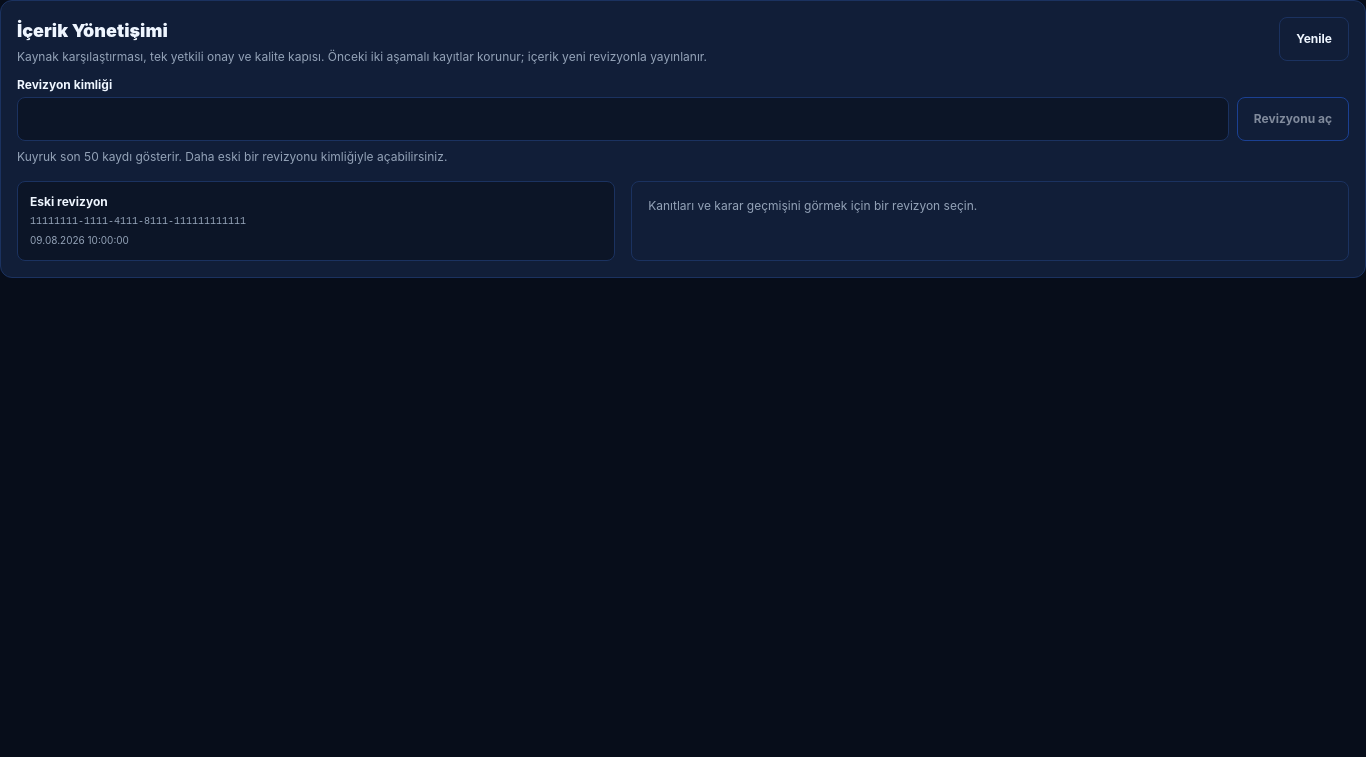
ContentGovernancePanel › rejects malformed lookup IDs locally and shows a failed read without a stale revision
Click the text "Eski revizyon": (69, 202) [30,194,108,209]
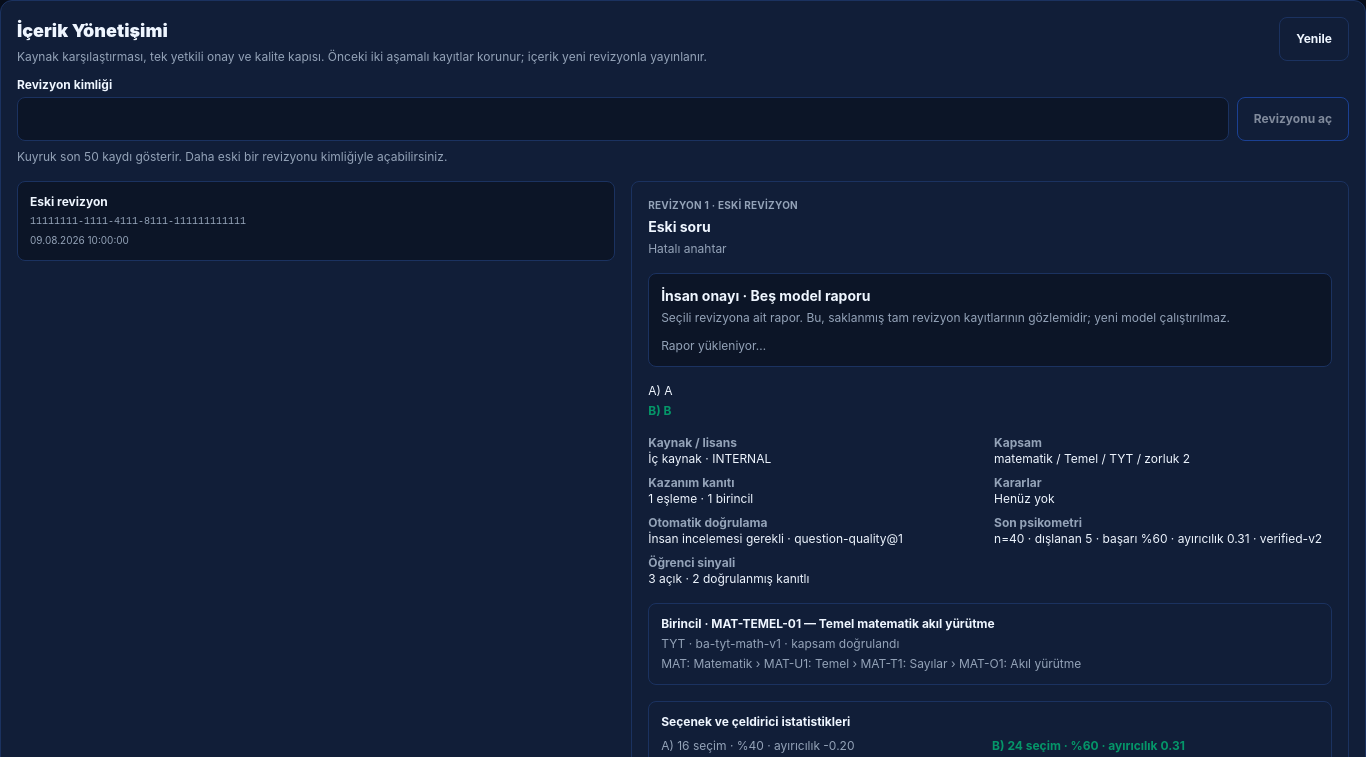
Expected: the heading "Eski soru" is shown, [648,218,711,235]
In the field labelled "Revizyon kimliği": (623, 119) [17,97,1229,141], type "../publish"
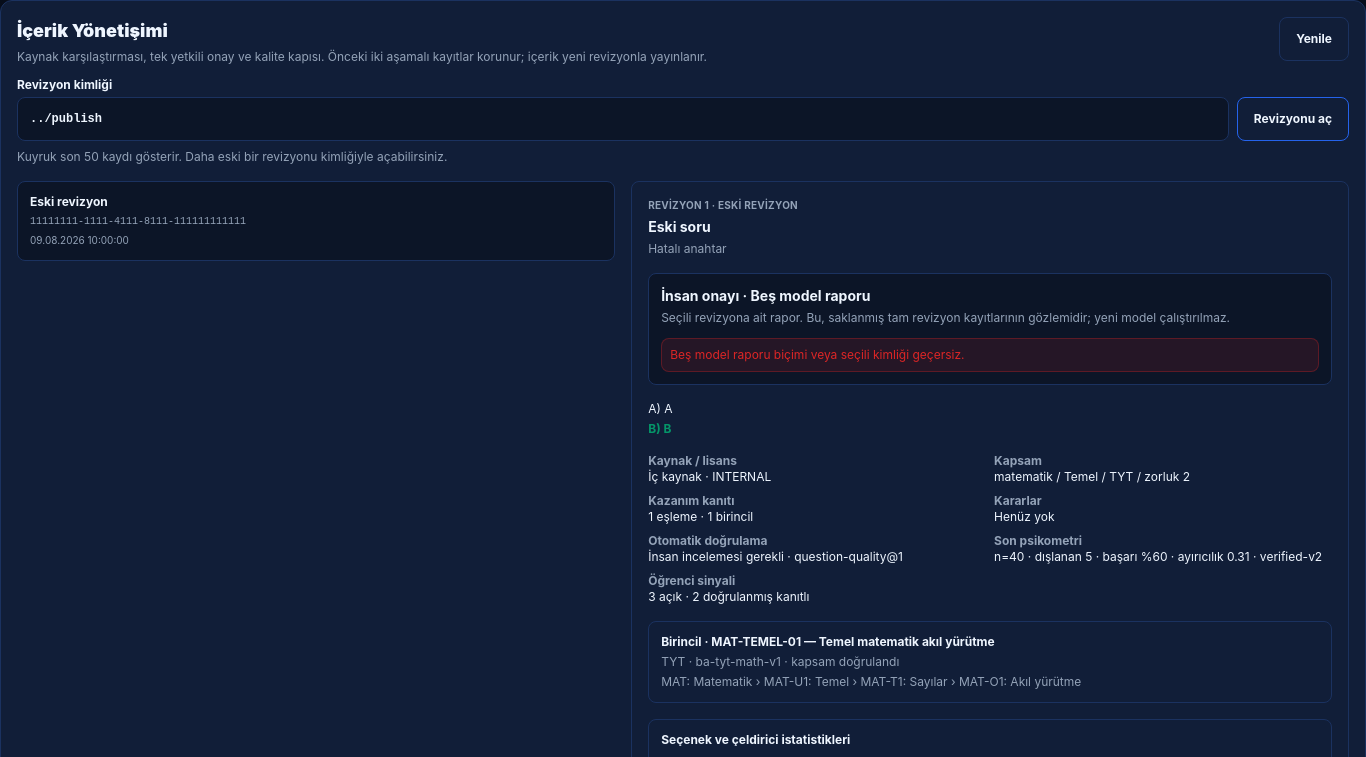
Click the button "Revizyonu aç": (1293, 119) [1237,97,1349,141]
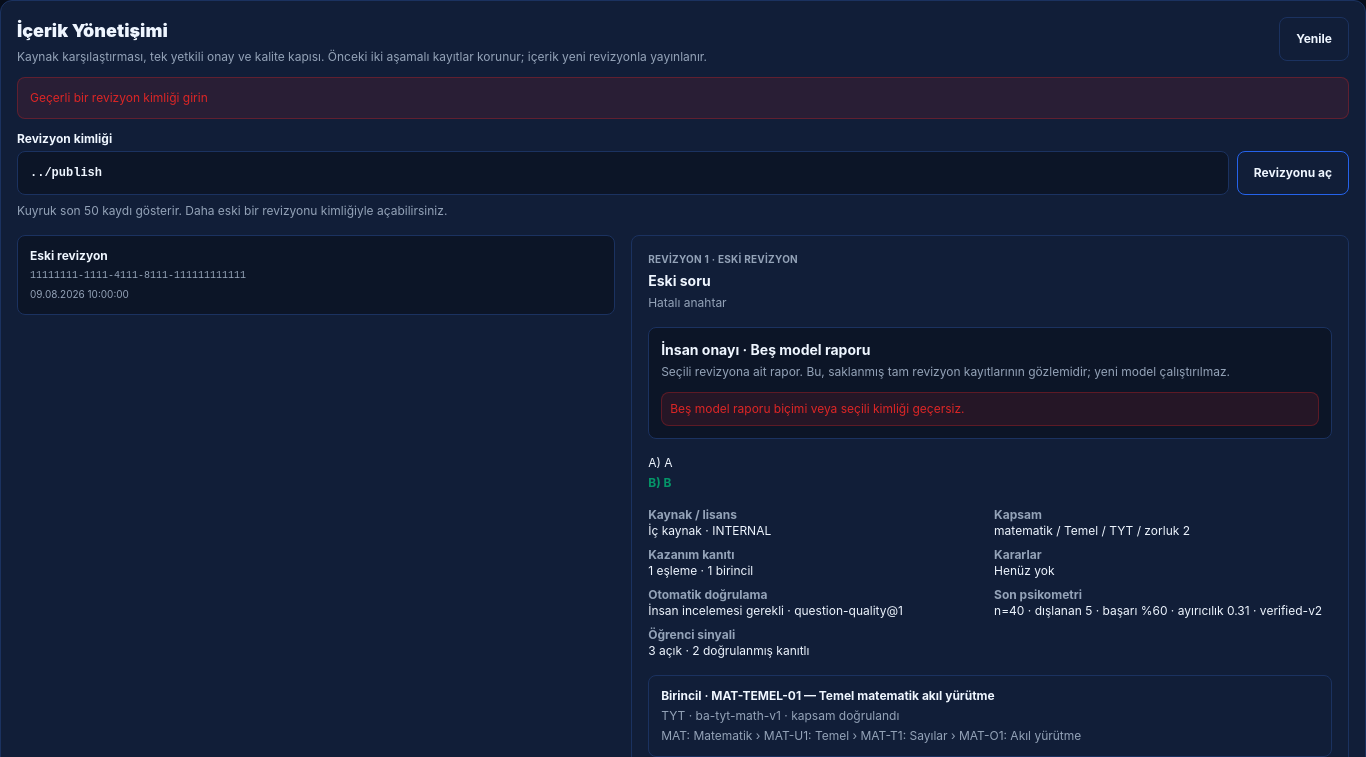
Replace the text in the field labelled "Revizyon kimliği" with "22222222-2222-4222-8222-222222222222": (623, 173) [17,151,1229,195]
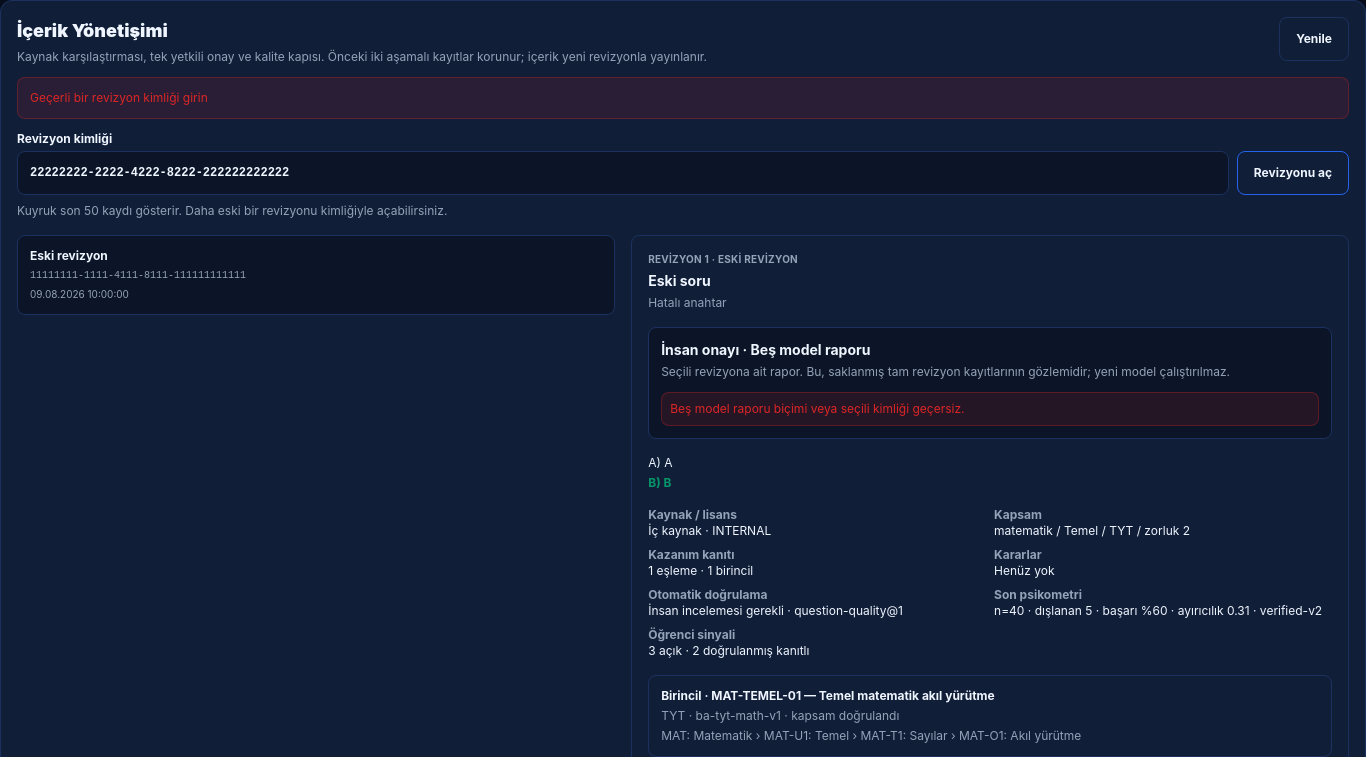
Click the button "Revizyonu aç": (1293, 173) [1237,151,1349,195]
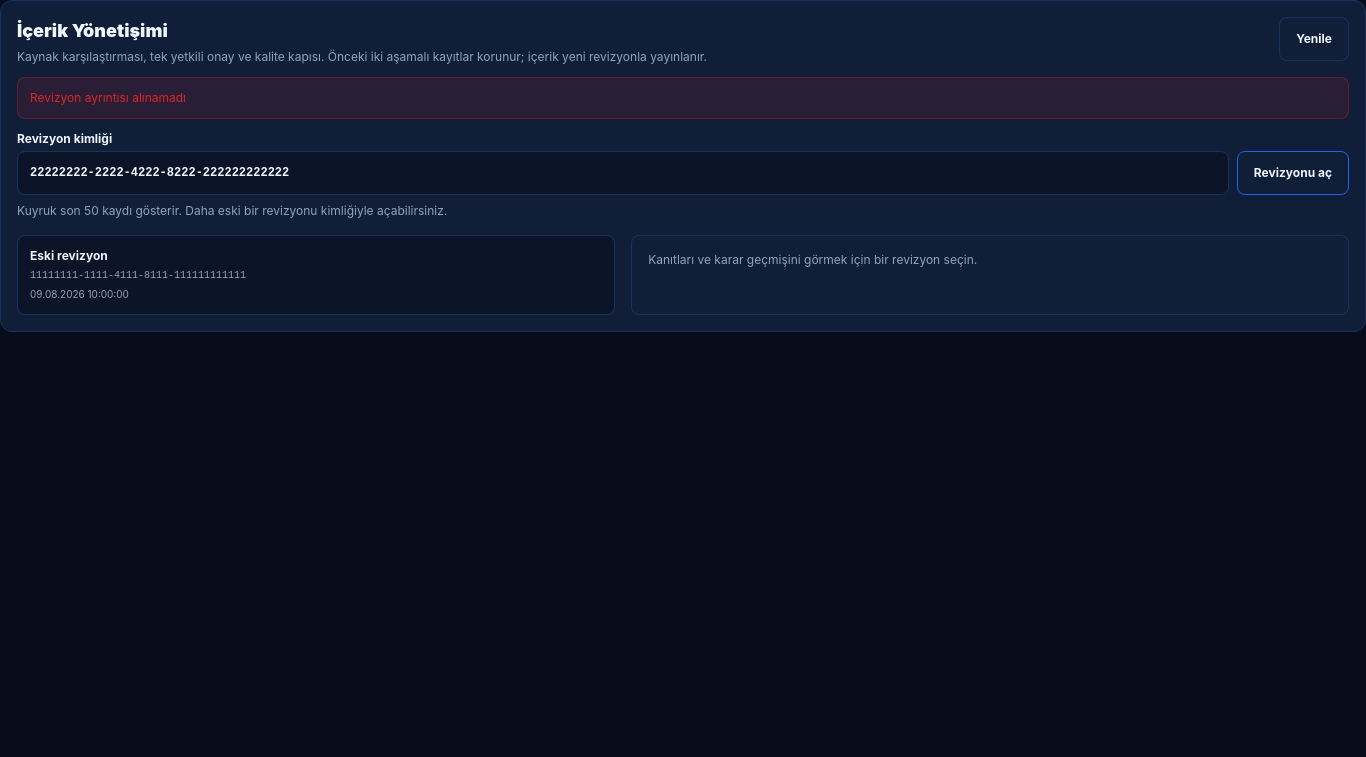
Expected: the heading "Eski soru" is gone
